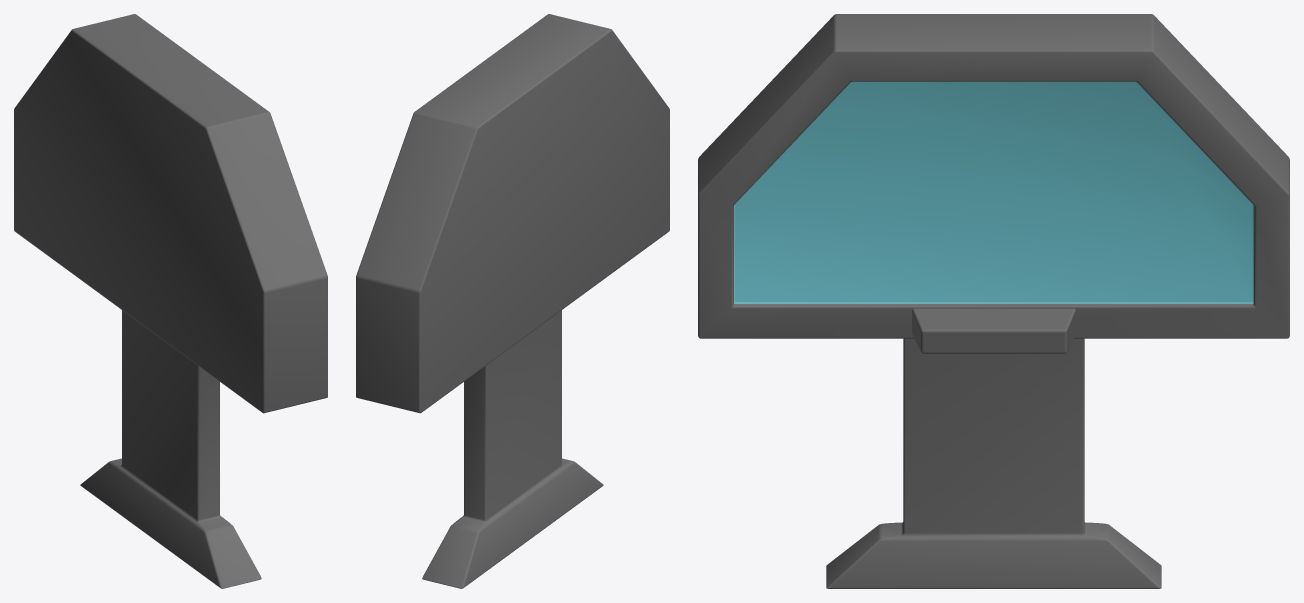
File: upgrade console.fbx
The picture shows the model from 3 angles, left to right: view 1: azimuth 30°, elevation 25°; view 2: azimuth 150°, elevation 25°; view 3: azimuth 270°, elevation 25°; orthographic projection. The views are drawn at different scales.
Visible parts, largest first — view 1: Cube; view 2: Cube; view 3: Cube.
Part boxes in pixels (<box>): Cube: <box>14,14,327,588</box>; Cube: <box>356,14,669,588</box>; Cube: <box>698,14,1289,588</box>.
Bounding box in the file's own units: 39.68 × 175 × 172.
